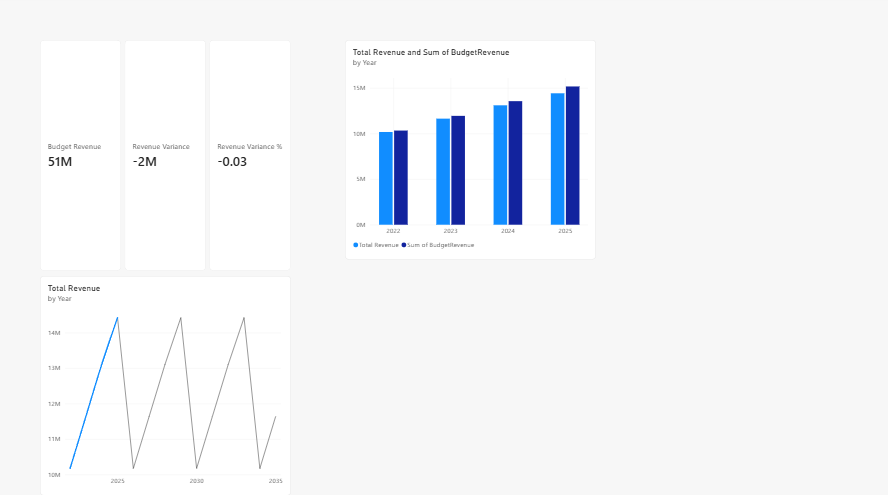

Layout of this report page (visuals, bound fields, positions):
{"tool":"powerbi","page":{"name":"Forecast & Budget","canvas":[1920,1080],"ordinal":4},"visuals":[{"type":"cardVisual","fields":{"Data":["BalanceSheet.Budget Revenue","BalanceSheet.Revenue Variance","BalanceSheet.Revenue Variance %"]},"box":[86.4,97.2,542.2,499],"z":0},{"type":"clusteredColumnChart","fields":{"Category":["Calendar.Date.Variation.Date Hierarchy.Year"],"Y":["IncomeStatement.Total Revenue","Sum(Budget.BudgetRevenue)"]},"box":[745.2,97.2,542,474],"z":1},{"type":"lineChart","fields":{"Category":["Calendar.MonthStart.Variation.Date Hierarchy.Year","Calendar.MonthStart.Variation.Date Hierarchy.Quarter","Calendar.MonthStart.Variation.Date Hierarchy.Month","Calendar.MonthStart.Variation.Date Hierarchy.Day"],"Y":["IncomeStatement.Total Revenue"]},"box":[86,606,542,474],"z":2}]}

Visuals, with their boxes in screenshot pixels (x1, y1, x2, y2), scaled from the page's 1920x1080 canvas onto the 888x495 screenshot:
cardVisual - BalanceSheet.Budget Revenue x BalanceSheet.Revenue Variance: 40/45/291/273
clusteredColumnChart - Calendar.Date.Variation.Date Hierarchy.Year x IncomeStatement.Total Revenue: 345/45/595/262
lineChart - Calendar.MonthStart.Variation.Date Hierarchy.Year x Calendar.MonthStart.Variation.Date Hierarchy.Quarter: 40/278/290/494
